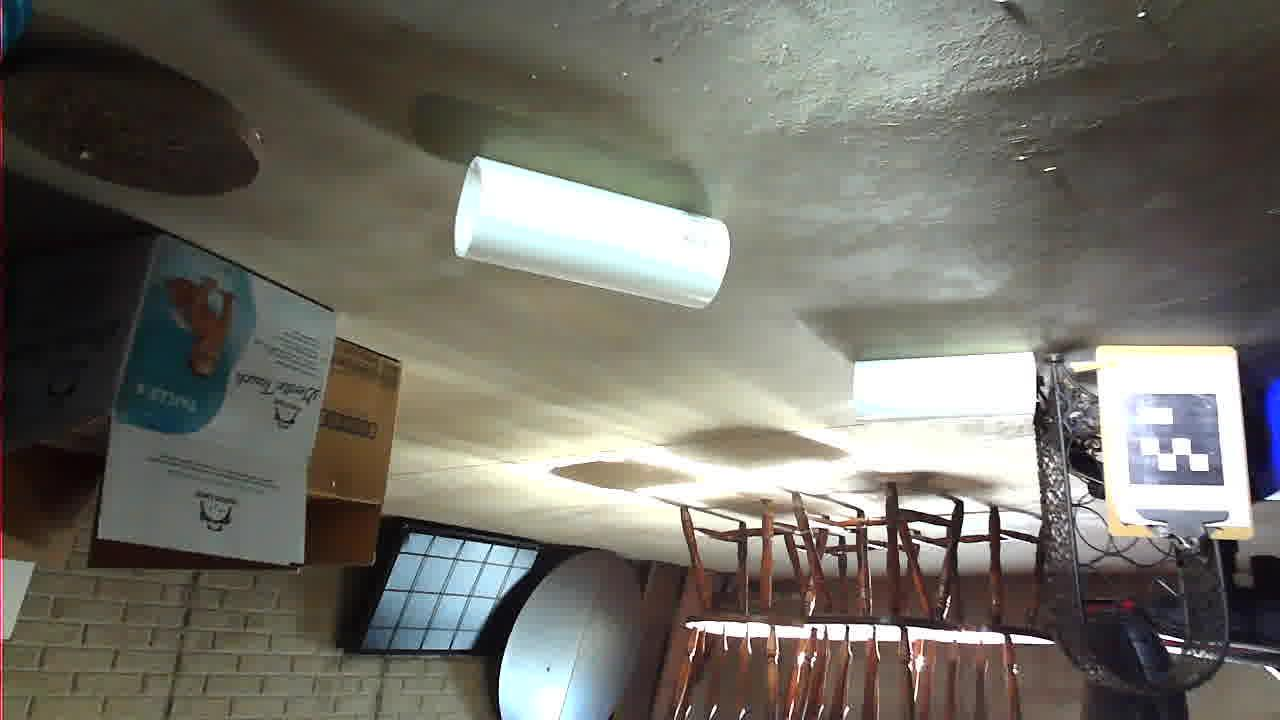coral: (552, 411, 825, 564), (244, 303, 428, 369)
